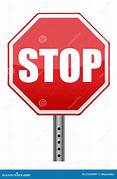stop: (8, 12, 111, 115)
